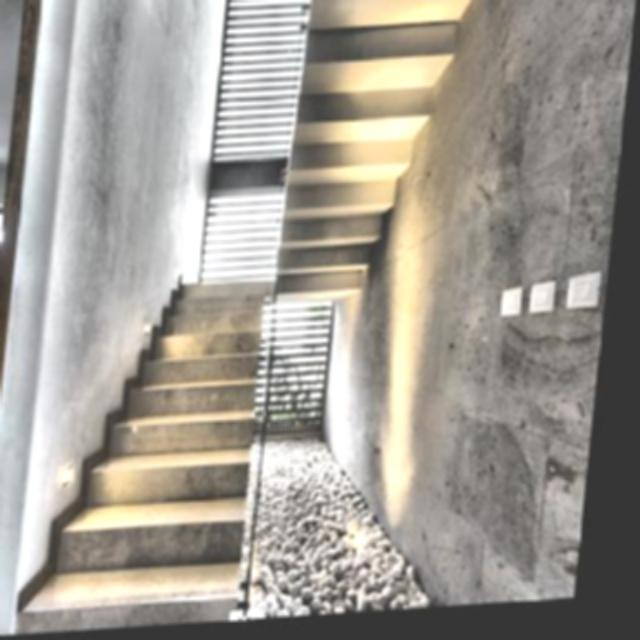stair: (35, 236, 283, 634)
